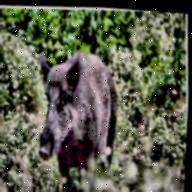boar: (29, 46, 124, 192)
